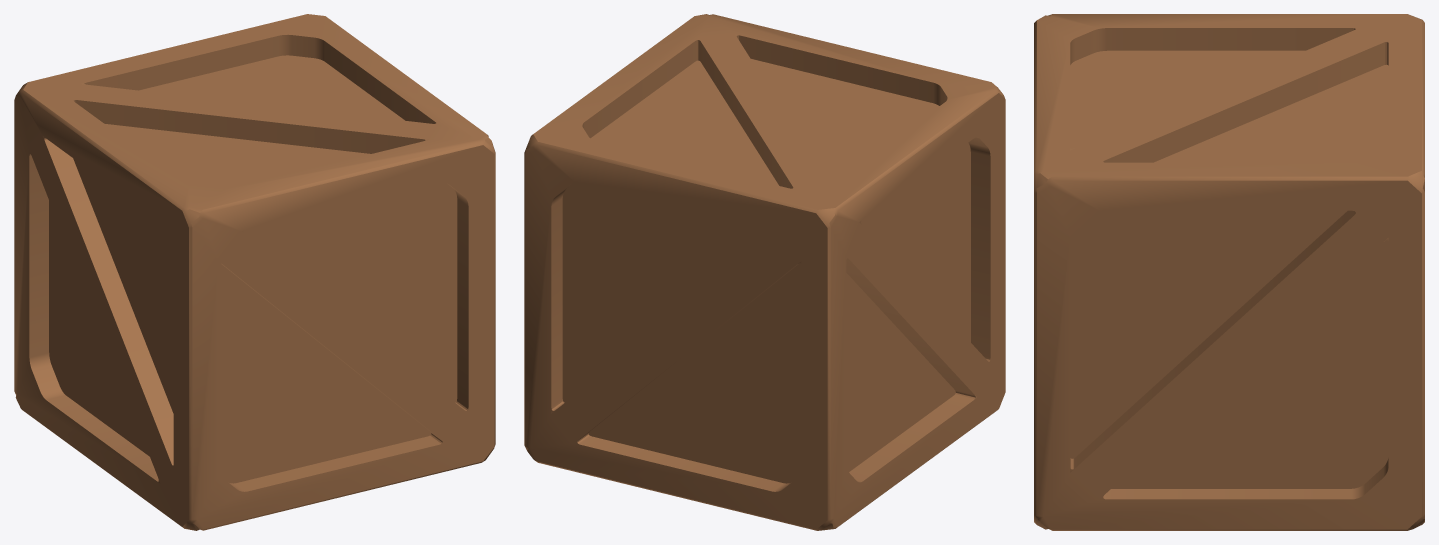
The picture shows the model from 3 angles, left to right: view 1: azimuth 30°, elevation 25°; view 2: azimuth 150°, elevation 25°; view 3: azimuth 270°, elevation 25°; orthographic projection. The views are drawn at different scales.
Parts seen in each view (by area): view 1: box; view 2: box; view 3: box.
Boxes of the visible parts, x1,y1,x2,y2 form: box: (14,14,495,530); box: (524,14,1005,530); box: (1034,14,1424,530).
Bounding box in the file's own units: 100 × 100 × 100.
